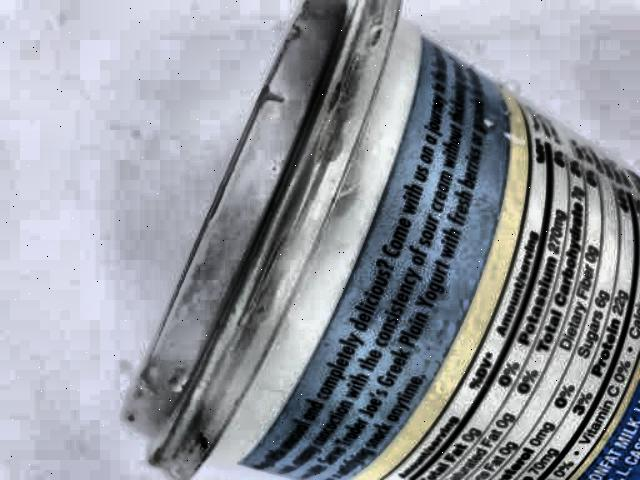Plastic: (74, 1, 588, 480)
